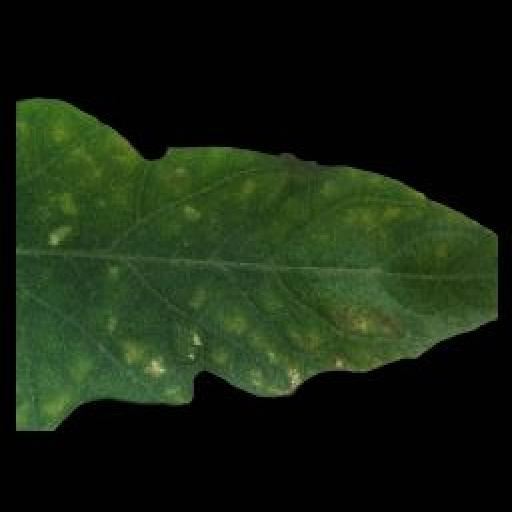Late Blight: (16, 96, 498, 430)
